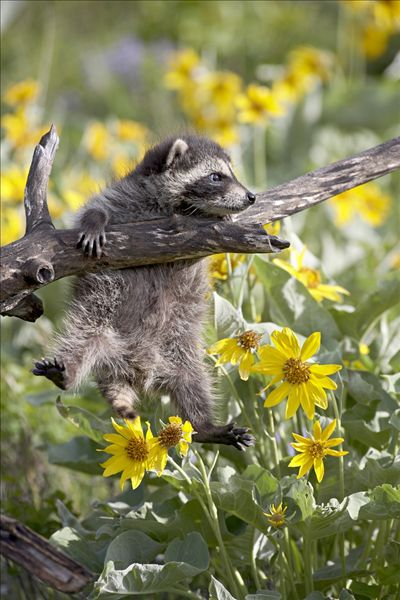raccoon: (33, 131, 269, 466)
